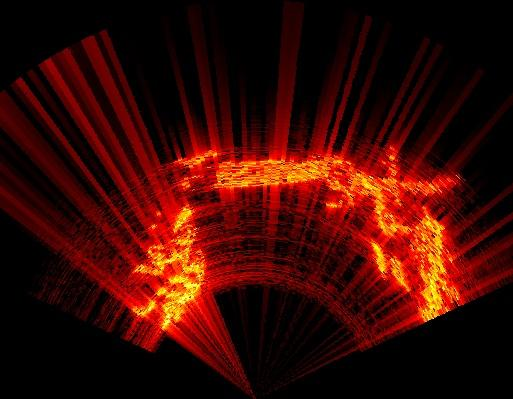shipwreck: (214, 153, 459, 320), (131, 205, 205, 330), (371, 238, 416, 291)
